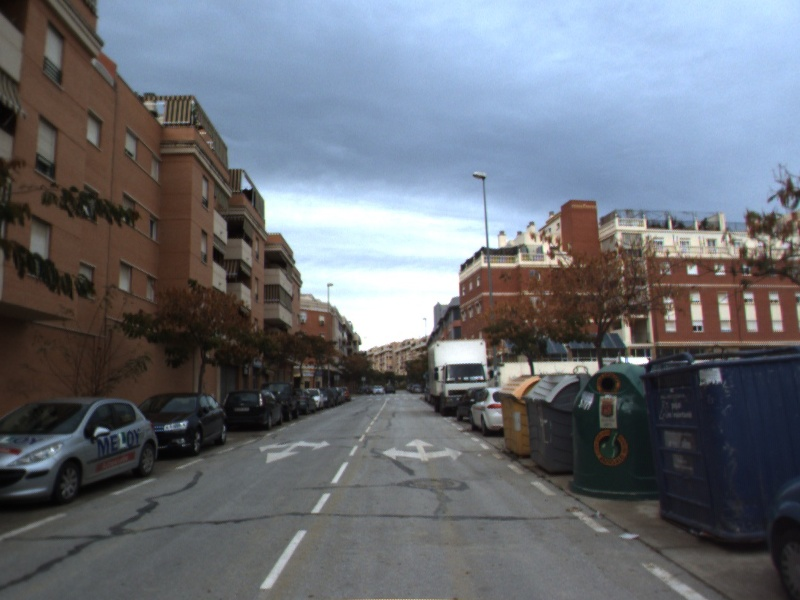STRAIGHT_LEFT_RIGHT: (379, 436, 465, 463)
